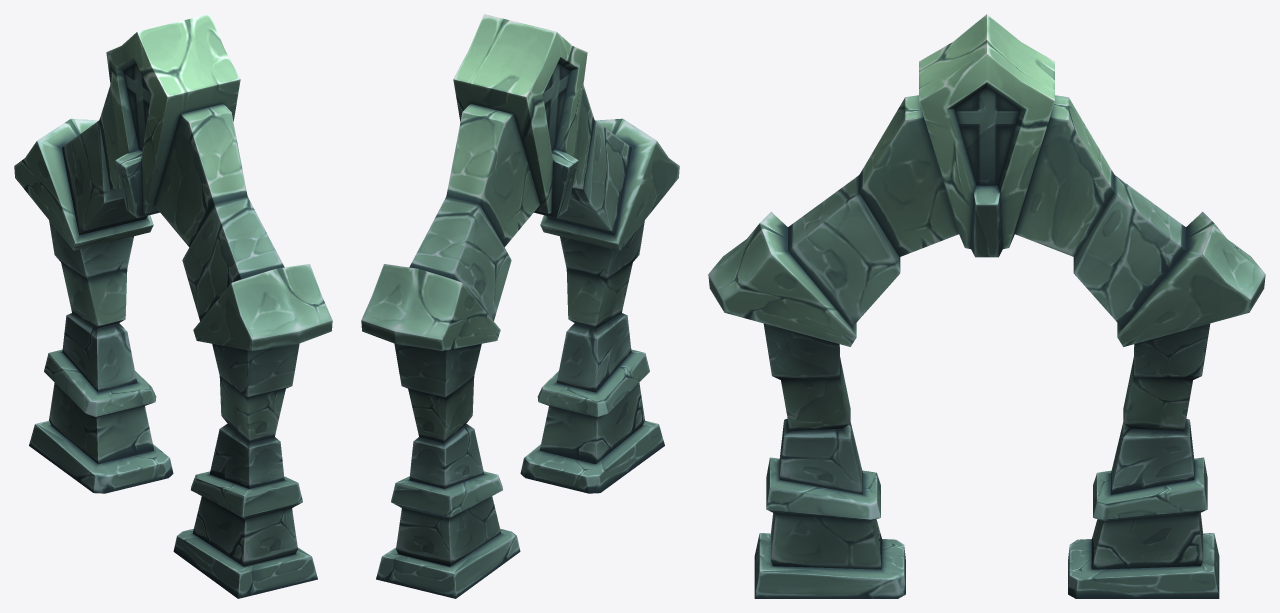
Rendered from cemetery-arc.FBX.
The picture shows the model from 3 angles, left to right: view 1: azimuth 30°, elevation 25°; view 2: azimuth 150°, elevation 25°; view 3: azimuth 270°, elevation 25°; orthographic projection. The views are drawn at different scales.
Parts seen in each view (by area): view 1: arc; view 2: arc; view 3: arc.
Boxes of the visible parts, x1,y1,x2,y2 form: arc: (14, 14, 332, 598); arc: (361, 14, 679, 598); arc: (708, 14, 1265, 598).
Size of the model in its own units: 11.51 by 50.63 by 47.05.
1 material, 1 textured.
